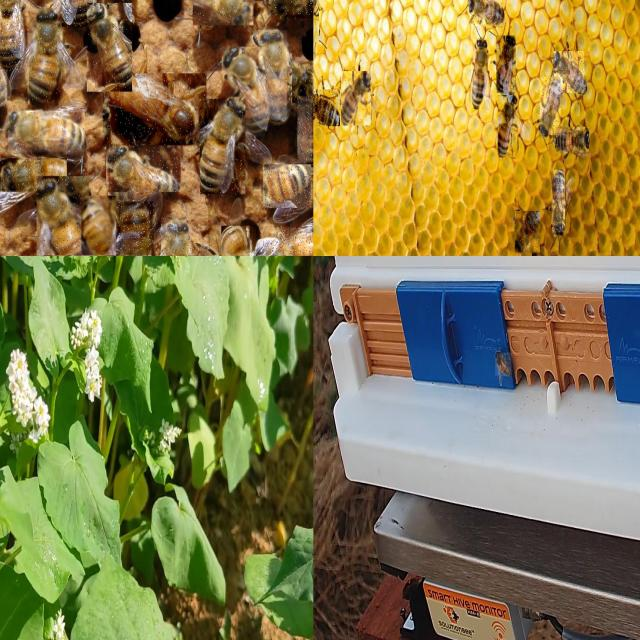honeybee: (15, 9, 84, 100), (87, 1, 136, 101), (114, 82, 195, 142), (7, 106, 86, 166), (200, 96, 248, 189), (226, 48, 270, 140), (258, 31, 294, 119), (110, 145, 174, 191), (262, 164, 314, 218), (37, 192, 82, 253), (0, 155, 77, 190), (294, 57, 315, 156), (187, 0, 252, 31), (82, 199, 116, 258), (0, 0, 24, 71), (119, 200, 152, 251), (342, 65, 369, 124), (469, 35, 490, 110), (553, 52, 585, 101), (157, 221, 192, 258), (543, 77, 563, 137), (499, 91, 516, 158), (498, 31, 516, 91), (468, 0, 506, 26), (556, 129, 591, 157), (554, 165, 568, 234), (220, 225, 252, 255), (521, 206, 537, 258), (315, 98, 340, 126), (58, 0, 76, 25), (496, 358, 509, 386)
